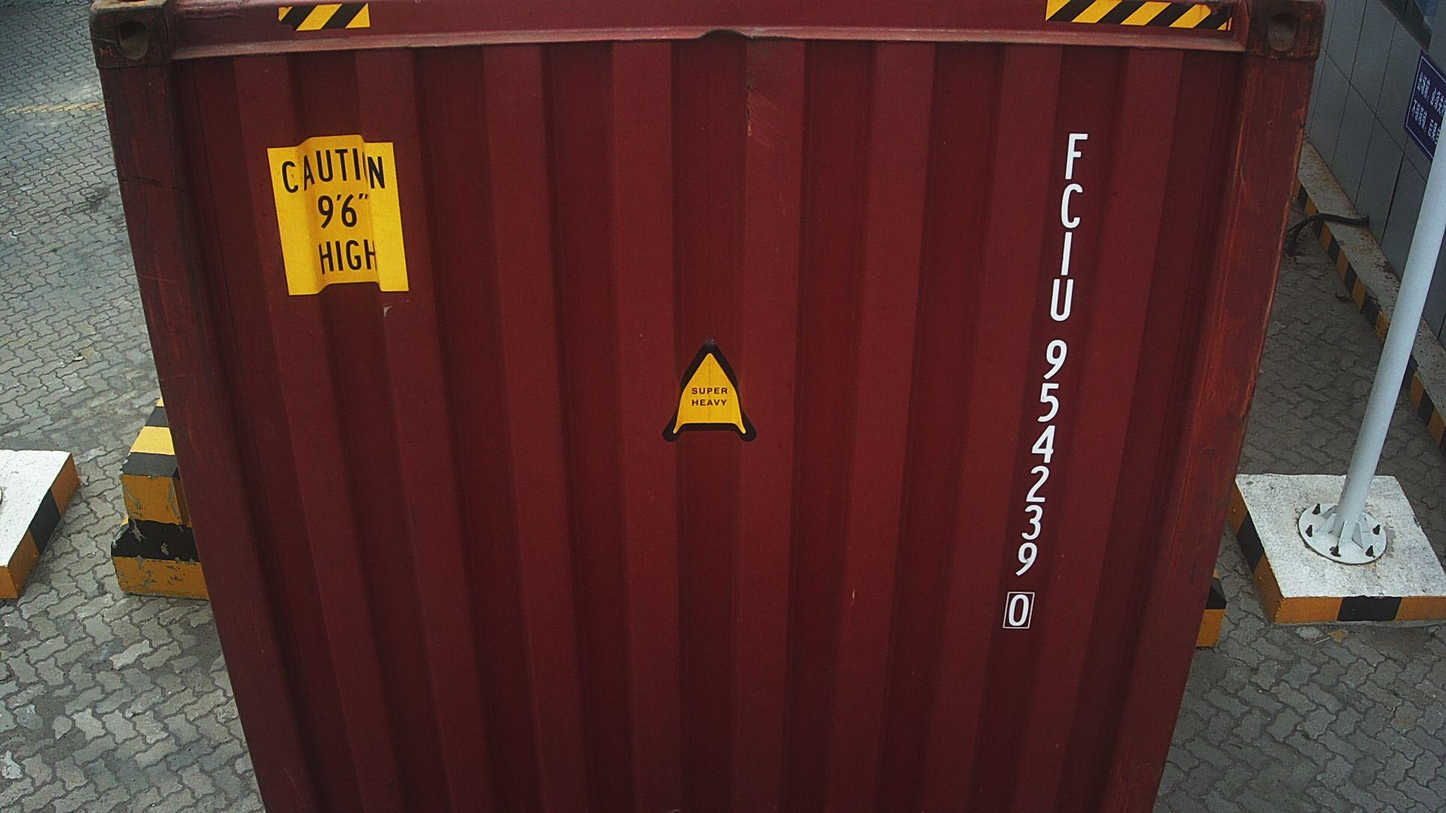container-numbers: (1001, 126, 1092, 635)
